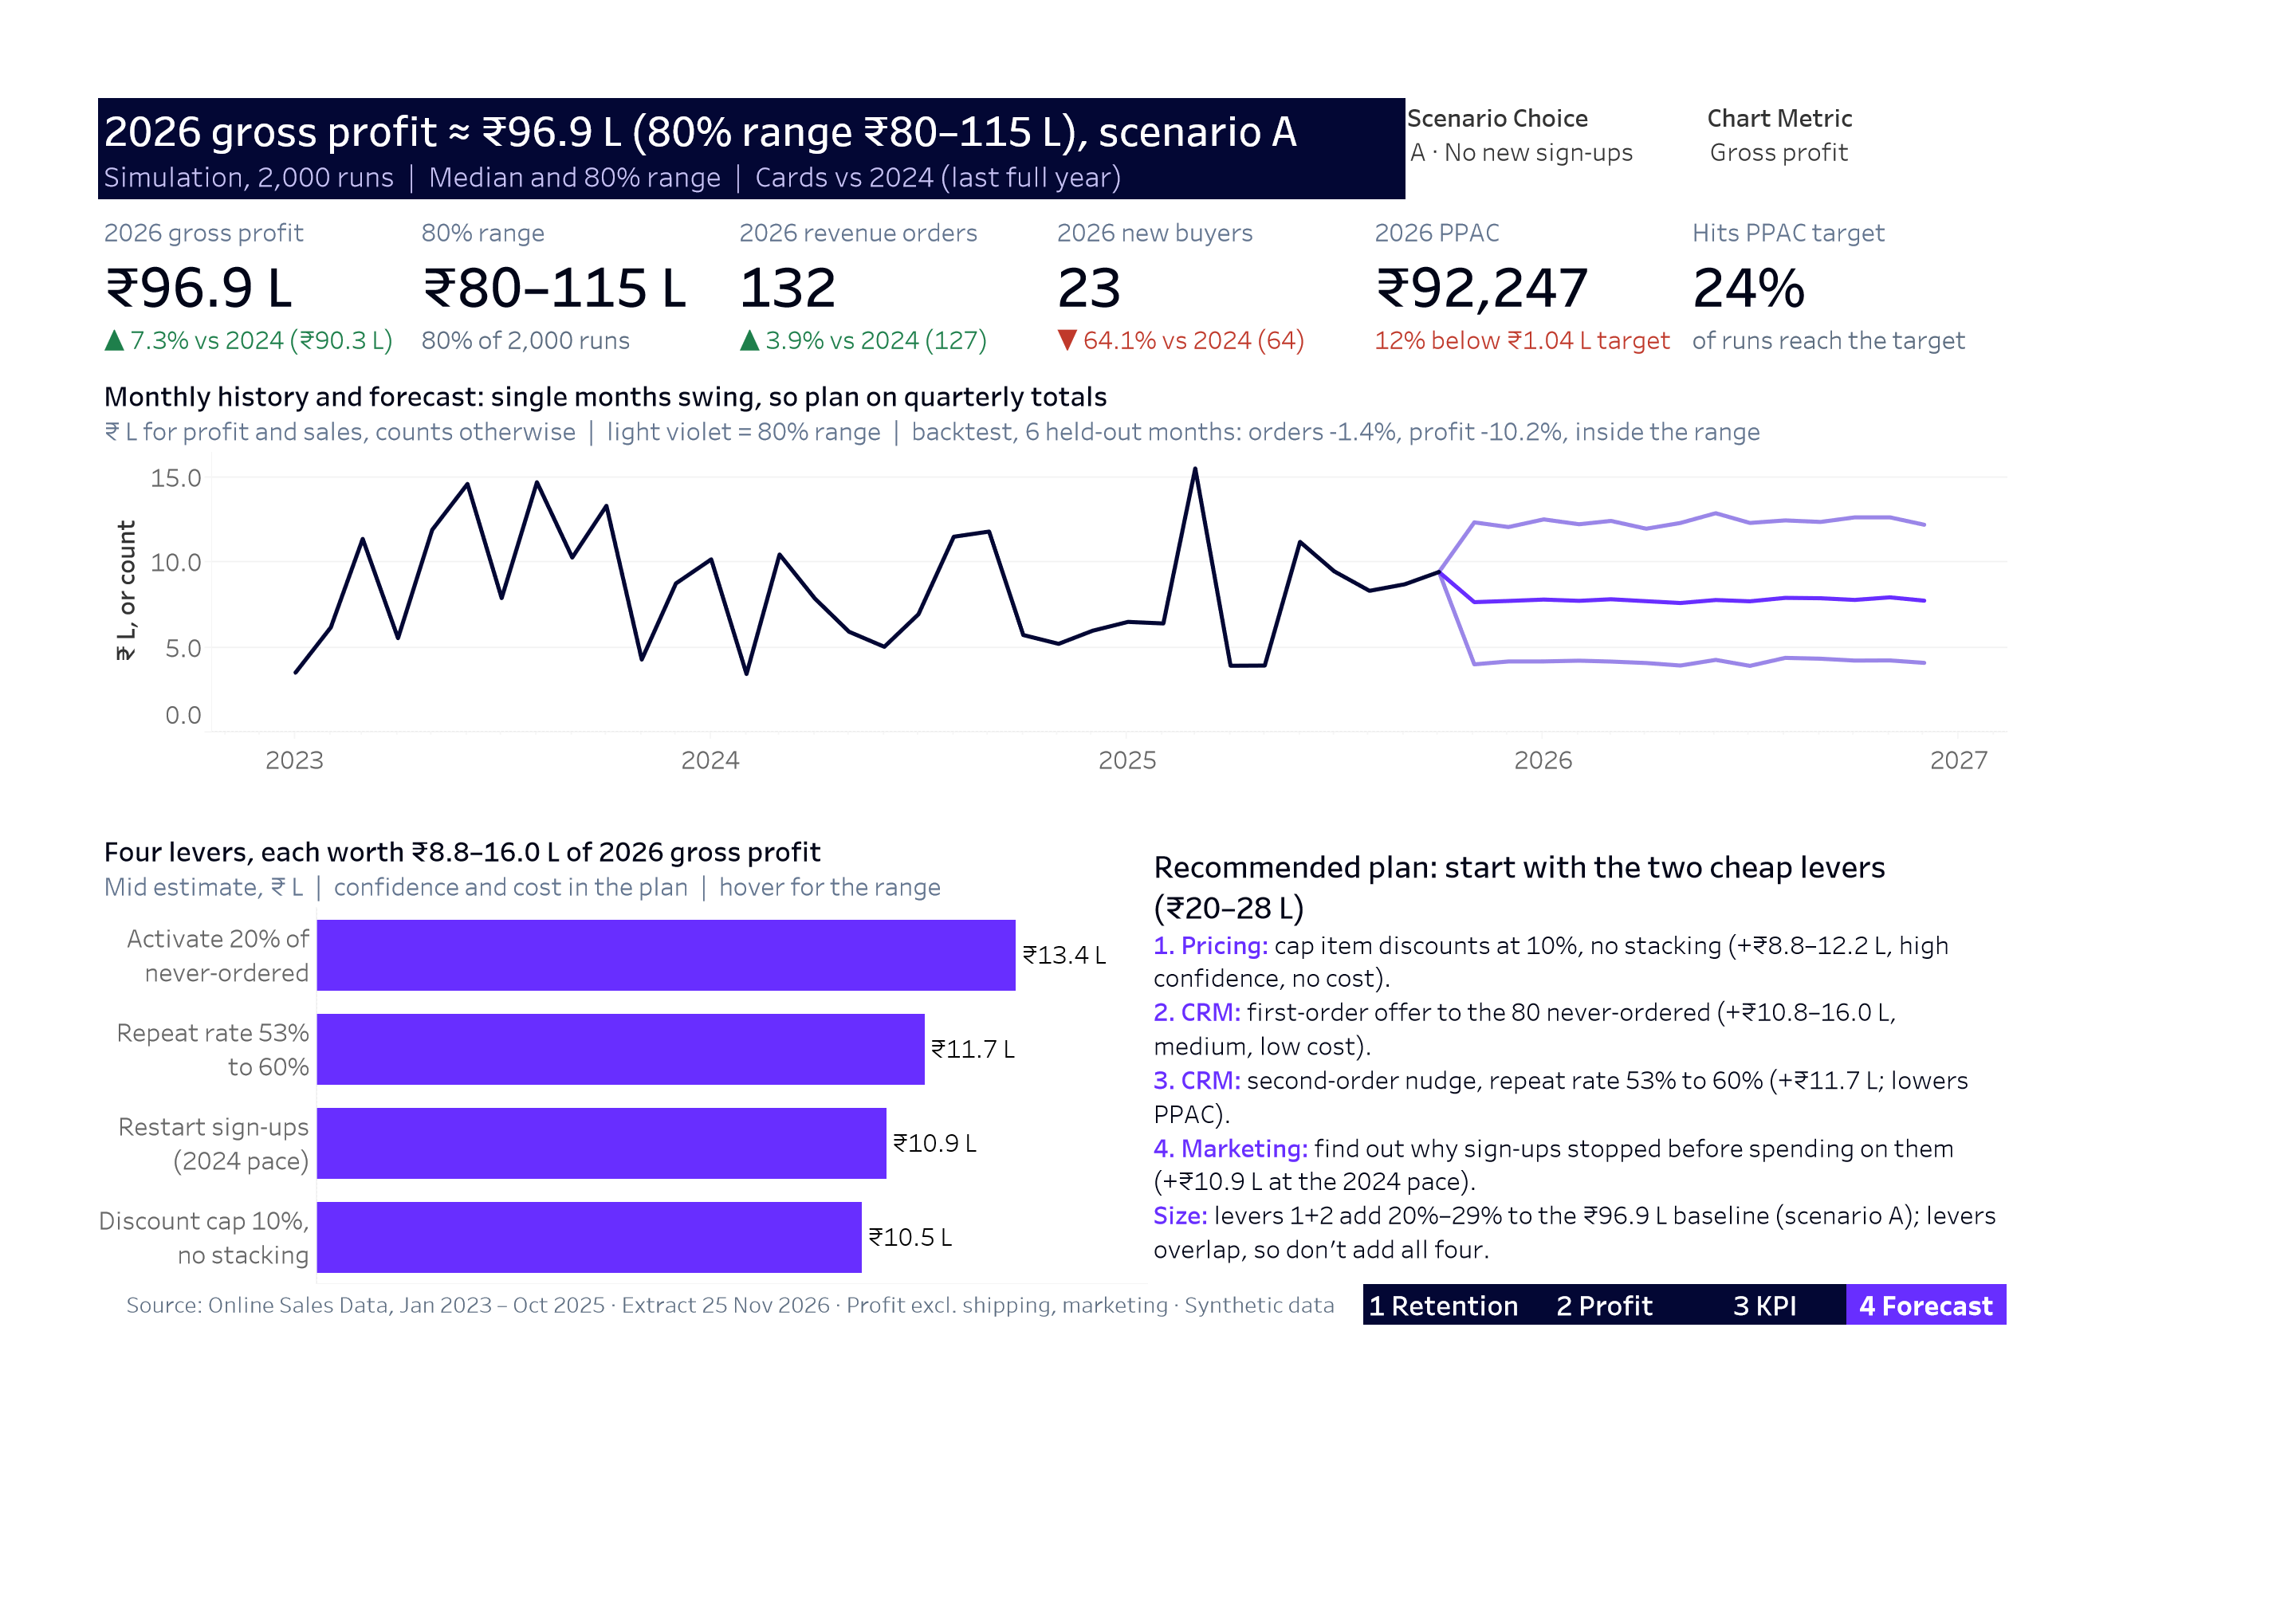

The page's visual inventory and layout, read from the dashboard file:
{"tool":"tableau","page":{"name":"4 Forecast","canvas":[1400,900],"ordinal":3},"visuals":[{"type":"NONE","title":"P4 Header","box":[0,0,960,74]},{"type":"parameter","param":"[Parameters].[Parameter 3]","box":[960,0,220,74]},{"type":"parameter","param":"[Parameters].[Parameter 4]","box":[1180,0,220,74]},{"type":"NONE","title":"K4 GP","box":[0,74,233,128]},{"type":"NONE","title":"K4 Range","box":[233,74,233,128]},{"type":"NONE","title":"K4 Orders","box":[466,74,233,128]},{"type":"NONE","title":"K4 New","box":[699,74,233,128]},{"type":"NONE","title":"K4 PPAC","box":[932,74,233,128]},{"type":"NONE","title":"K4 Hit","box":[1165,74,235,128]},{"type":"text","box":[0,202,1400,58]},{"type":"NONE","title":"Forecast Trend","box":[0,260,1400,276]},{"type":"NONE","title":"T Levers","box":[0,536,770,58]},{"type":"text","box":[770,536,630,334]},{"type":"NONE","title":"Profit Levers","box":[0,594,770,276]},{"type":"text","box":[0,870,928,30]},{"type":"dashboard-object","box":[928,870,118,30]},{"type":"dashboard-object","box":[1046,870,118,30]},{"type":"dashboard-object","box":[1164,870,118,30]},{"type":"dashboard-object","box":[1282,870,118,30]}]}

Visuals, with their boxes on the page's 1400x900 design canvas (x1, y1, x2, y2). These are canvas units, not pixel positions in the 2296x1622 screenshot, which may show the page scaled, cropped or inside an application window:
"P4 Header" NONE: [left=0, top=0, right=960, bottom=74]
parameter: [left=960, top=0, right=1180, bottom=74]
parameter: [left=1180, top=0, right=1400, bottom=74]
"K4 GP" NONE: [left=0, top=74, right=233, bottom=202]
"K4 Range" NONE: [left=233, top=74, right=466, bottom=202]
"K4 Orders" NONE: [left=466, top=74, right=699, bottom=202]
"K4 New" NONE: [left=699, top=74, right=932, bottom=202]
"K4 PPAC" NONE: [left=932, top=74, right=1165, bottom=202]
"K4 Hit" NONE: [left=1165, top=74, right=1400, bottom=202]
text: [left=0, top=202, right=1400, bottom=260]
"Forecast Trend" NONE: [left=0, top=260, right=1400, bottom=536]
"T Levers" NONE: [left=0, top=536, right=770, bottom=594]
text: [left=770, top=536, right=1400, bottom=870]
"Profit Levers" NONE: [left=0, top=594, right=770, bottom=870]
text: [left=0, top=870, right=928, bottom=900]
dashboard-object: [left=928, top=870, right=1046, bottom=900]
dashboard-object: [left=1046, top=870, right=1164, bottom=900]
dashboard-object: [left=1164, top=870, right=1282, bottom=900]
dashboard-object: [left=1282, top=870, right=1400, bottom=900]
